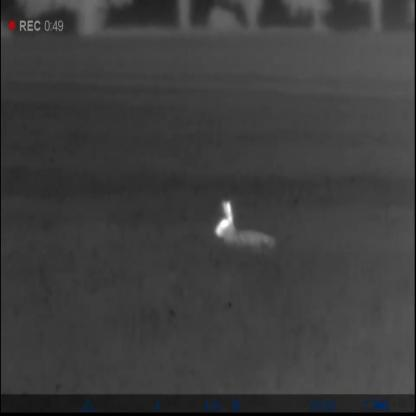rehkitze: (213, 197, 280, 251)
